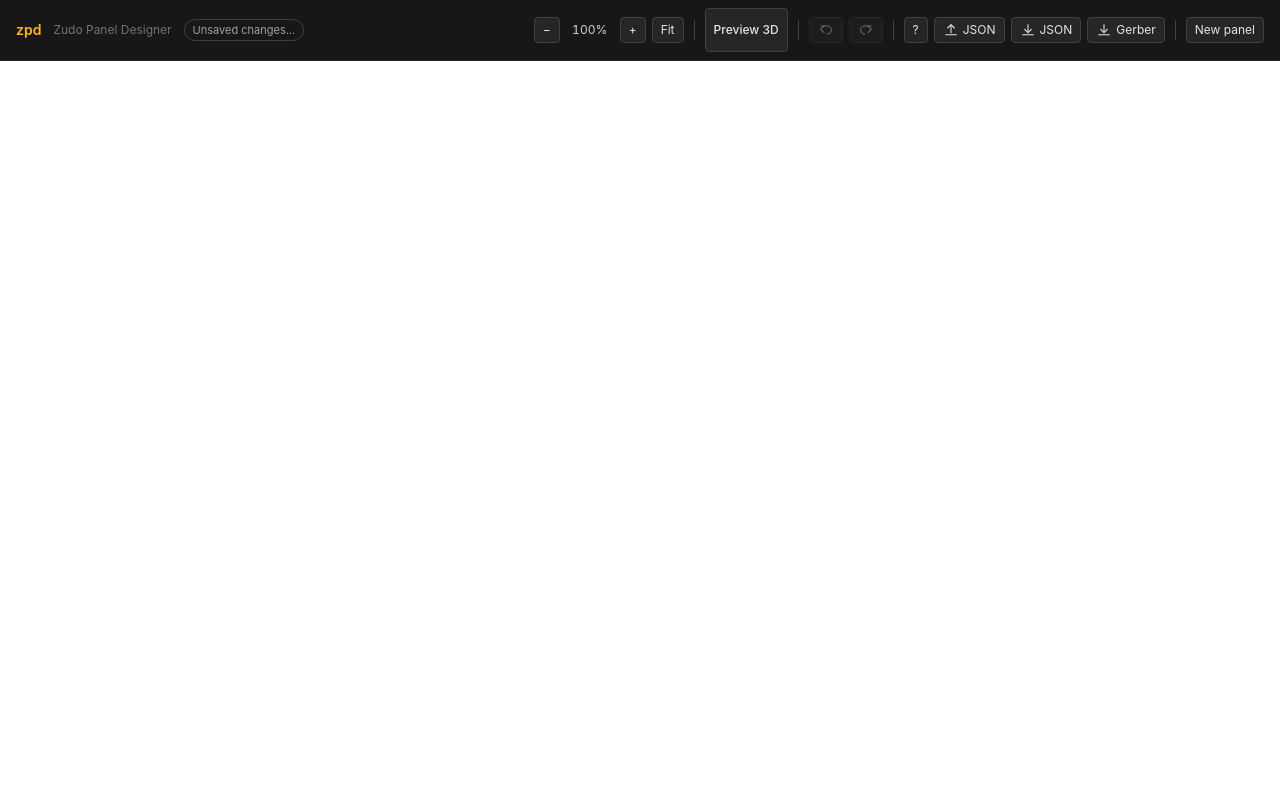
Test case: Header › opens a danger confirm dialog when "New panel" is clicked
The image size is (1280, 800).
Click the button "New panel". click: click(1225, 30)
box: [1186, 17, 1264, 43]
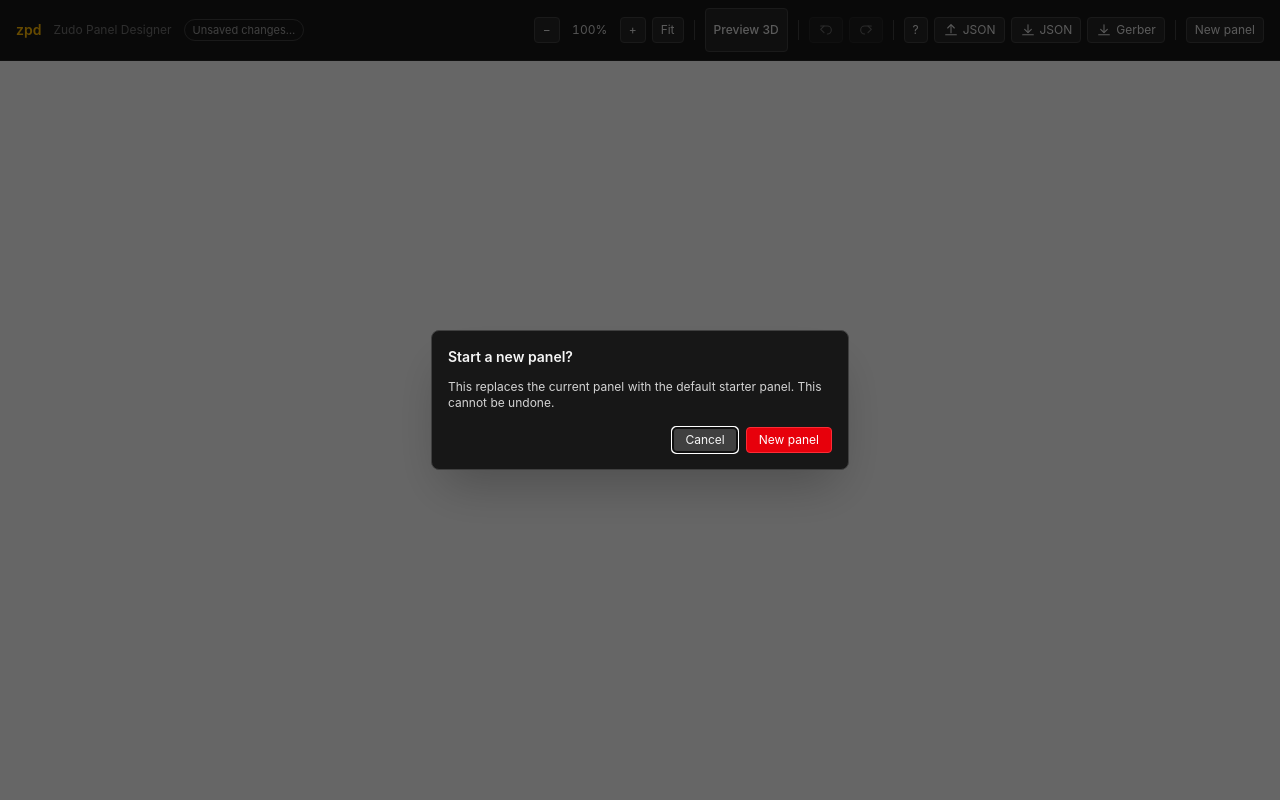
Expected: the heading "Start a new panel?" is shown, [448, 348, 573, 365]
